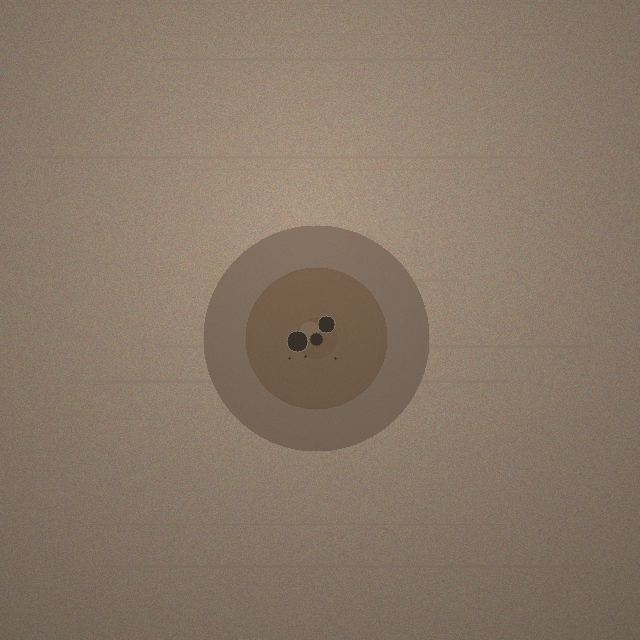shrinkage: (203, 225, 429, 451)
